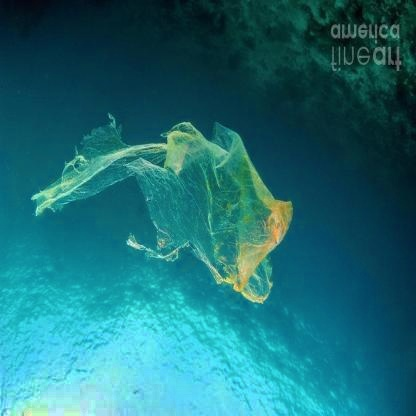pbag: (23, 104, 298, 312)
